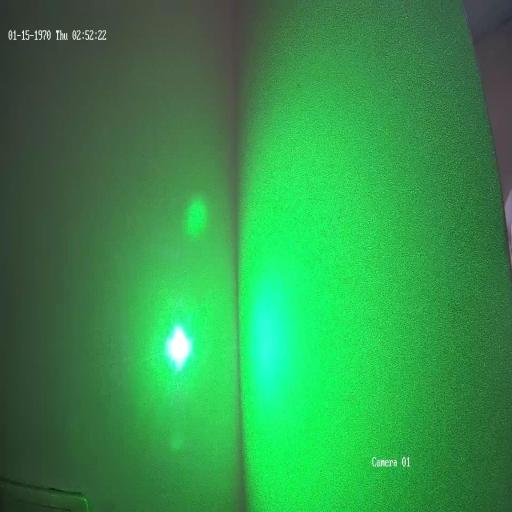laser: (159, 305, 198, 390)
